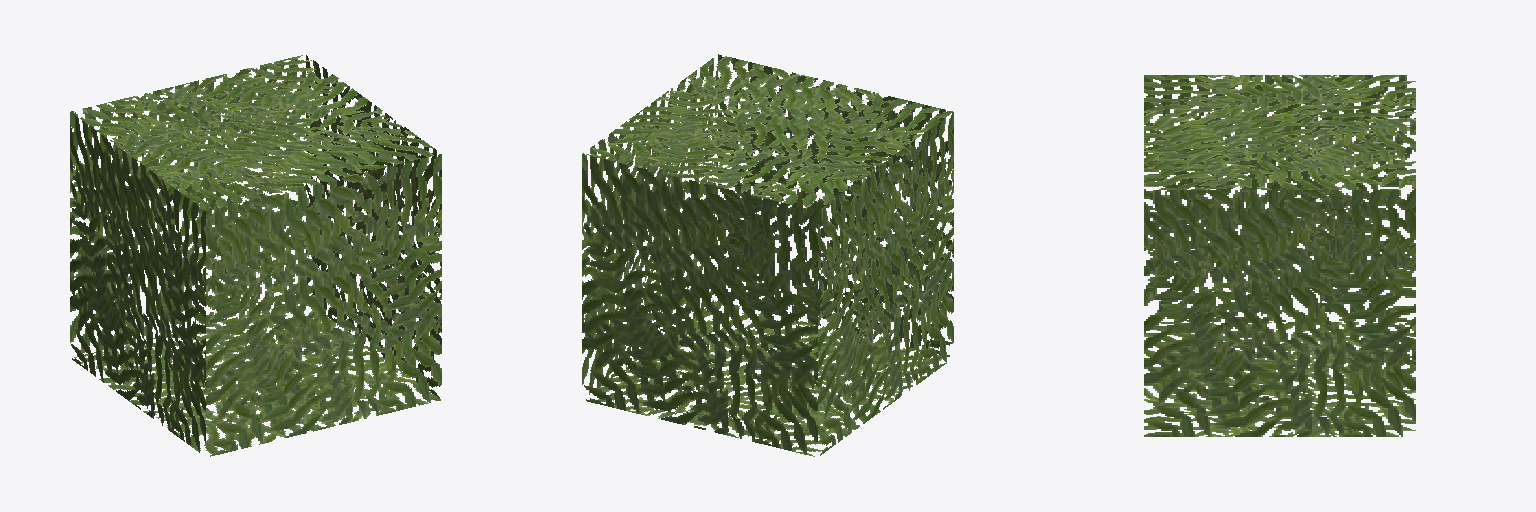
The picture shows the model from 3 angles: view 1: azimuth 30°, elevation 25°; view 2: azimuth 150°, elevation 25°; view 3: azimuth 270°, elevation 25°; orthographic projection.
Visible parts, largest first — view 1: tree_walnut_leaf; view 2: tree_walnut_leaf; view 3: tree_walnut_leaf.
Boxes of the visible parts, <box> form: tree_walnut_leaf: <box>70,55,441,456</box>; tree_walnut_leaf: <box>582,54,953,456</box>; tree_walnut_leaf: <box>1144,75,1415,436</box>.
Bounding box in the file's own units: 1 × 1 × 1.
1 materials, 1 textured.